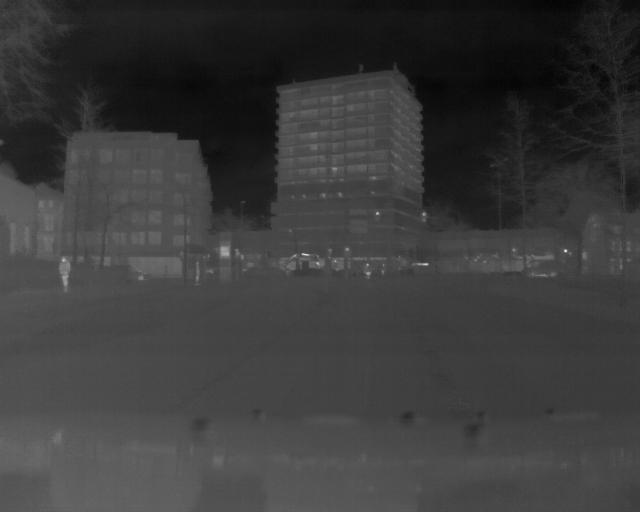person: (56, 253, 71, 292)
